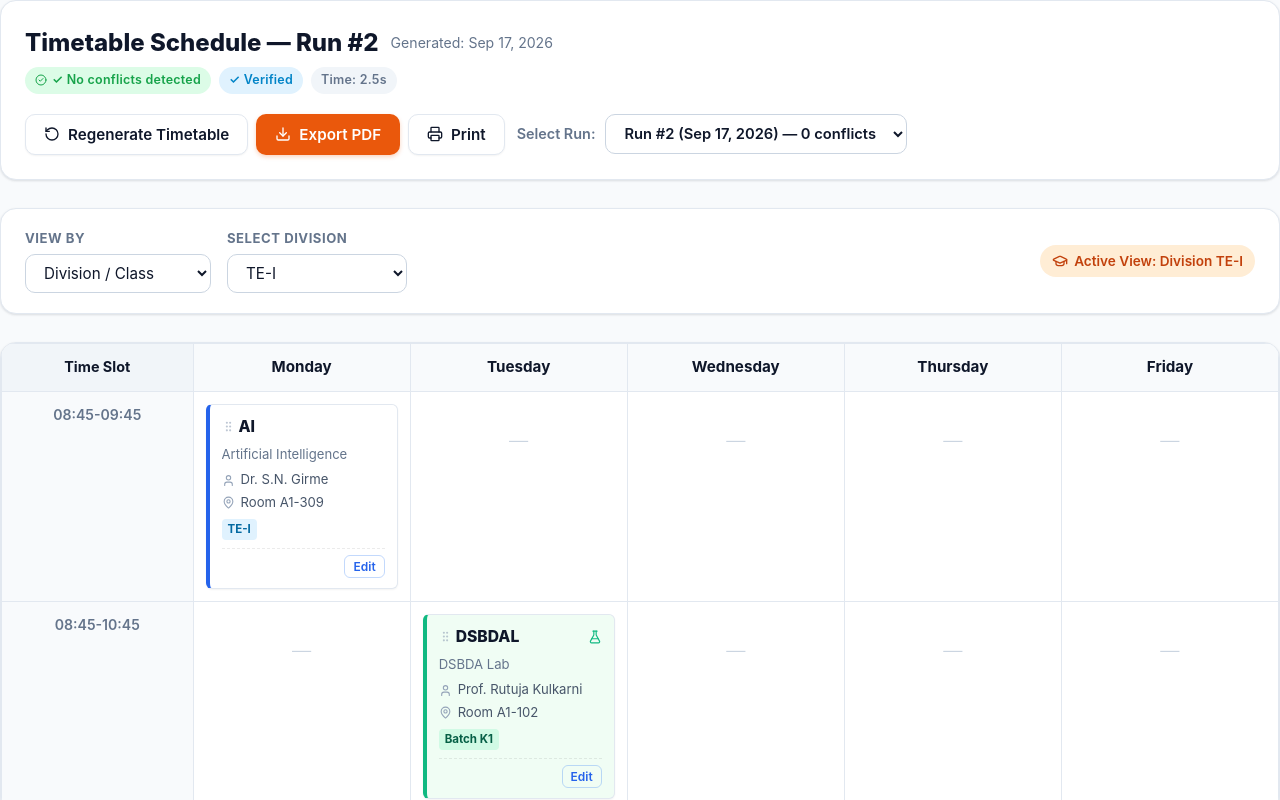
Redesigned Timetable Viewer Component › 15. Validates change and enables Save button
Click the button with aria-label "edit AI entry": (365, 567) [344, 555, 385, 578]
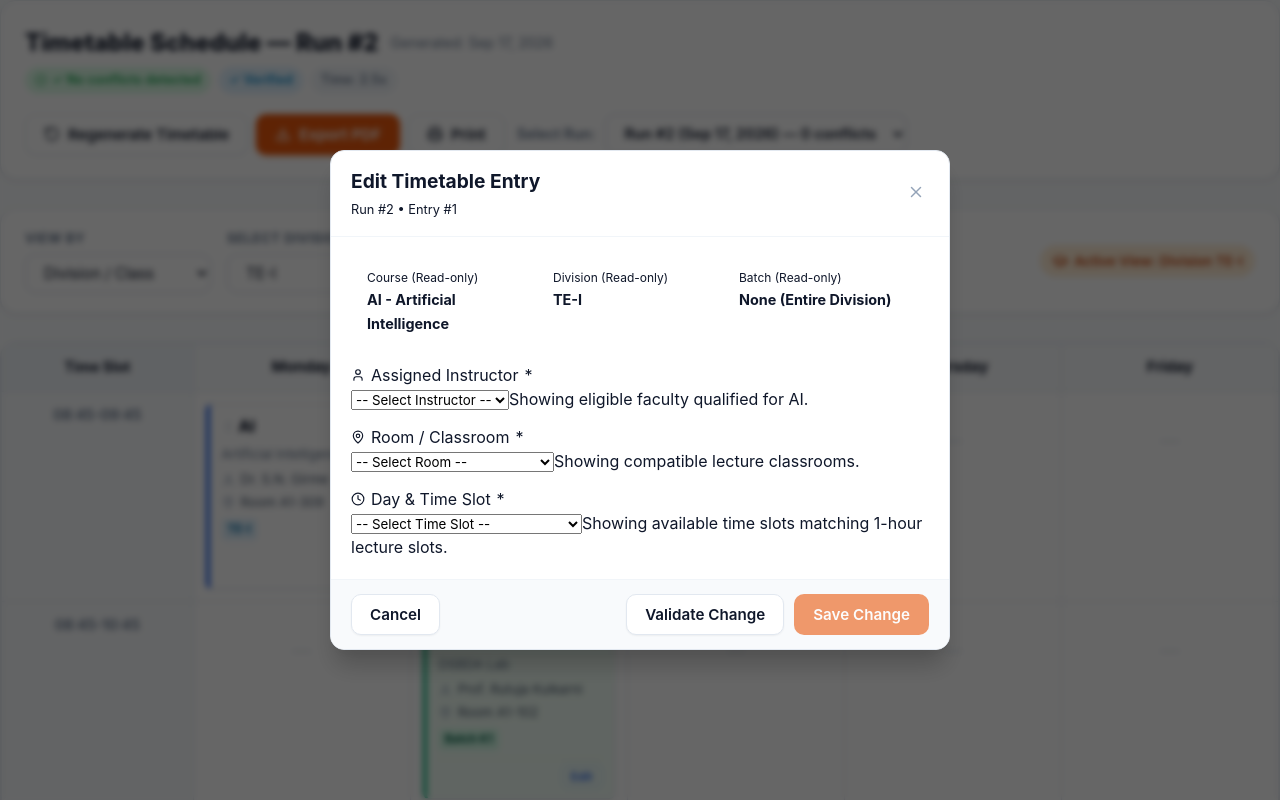
Check: the button "Validate Change" is shown
Click the button "Validate Change": (705, 614) [626, 594, 784, 635]
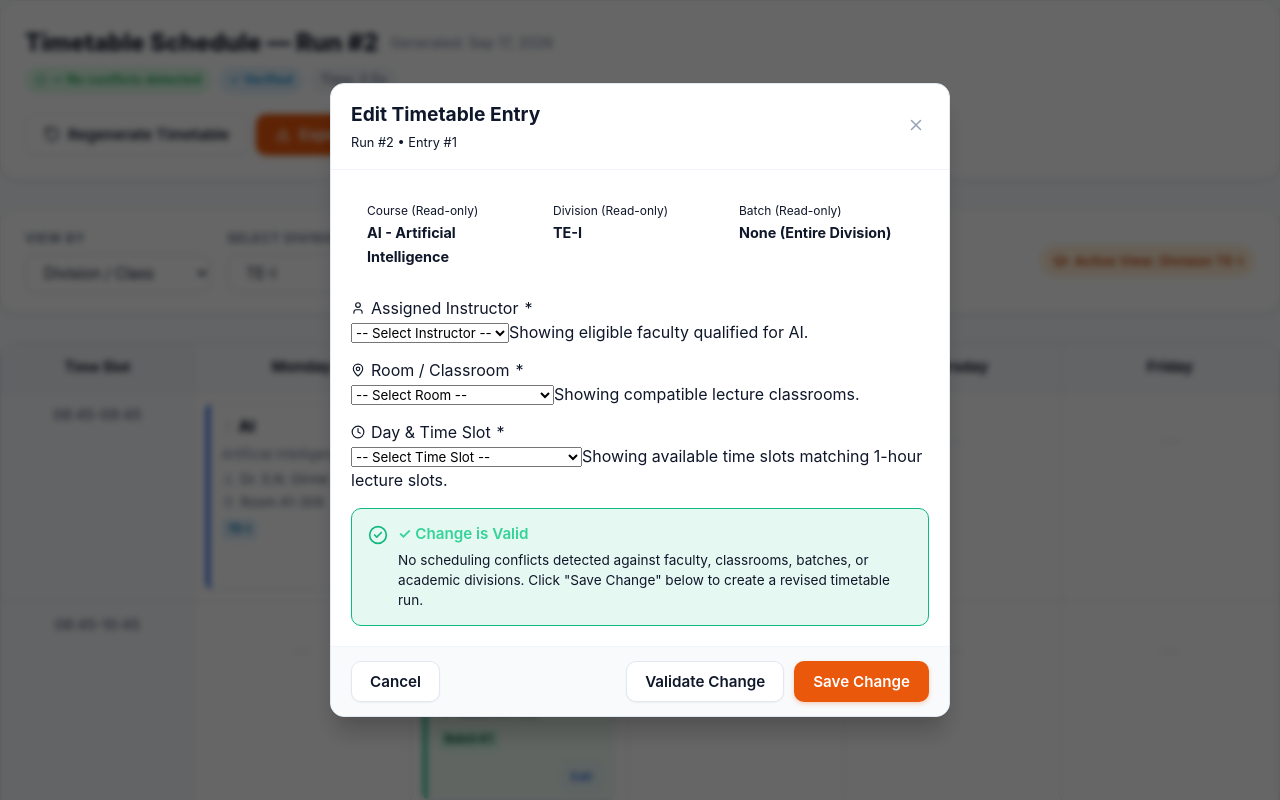
Check: the button "Save Change" is shown, box [794, 661, 929, 702]
Check: the heading "✓ Change is Valid" is shown, box [398, 524, 528, 543]
